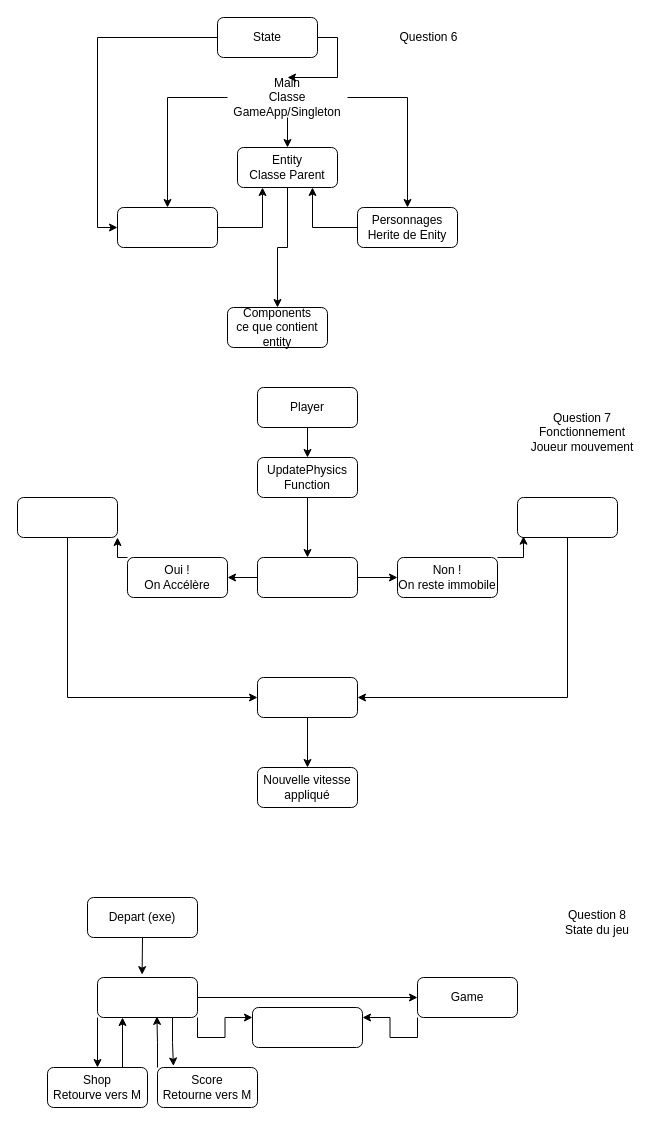
The diagram is 665 pixels wide and 1125 high, and some of its shapes have lost their labels. The shapes that lost their labels are listed below. From the top down, each one's box as (x1, y1, x2, y2) in pixels, then its label:
(116, 206, 218, 248): Player Herite de Entity
(16, 496, 118, 538): Ajouter Accélération
(516, 496, 618, 538): Vitesse reduit progressivement vers 0
(256, 556, 358, 598): Touche Clavier appuyé (A / D)
(256, 676, 358, 718): Limitation MaxSpeed
(96, 976, 198, 1018): Menu Clique vers
(252, 1006, 362, 1048): Quit
